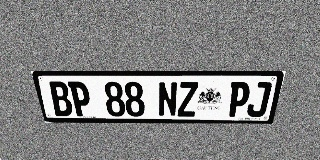8: (103, 82, 126, 116), (123, 82, 145, 116)
B: (47, 81, 74, 116)
J: (246, 82, 273, 117)
N: (158, 82, 178, 117)
P: (226, 82, 252, 117), (68, 81, 93, 116)
Z: (177, 82, 198, 117)
